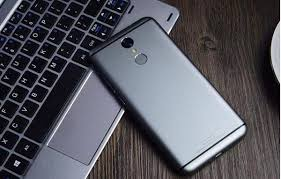mobil: (86, 14, 248, 175)
